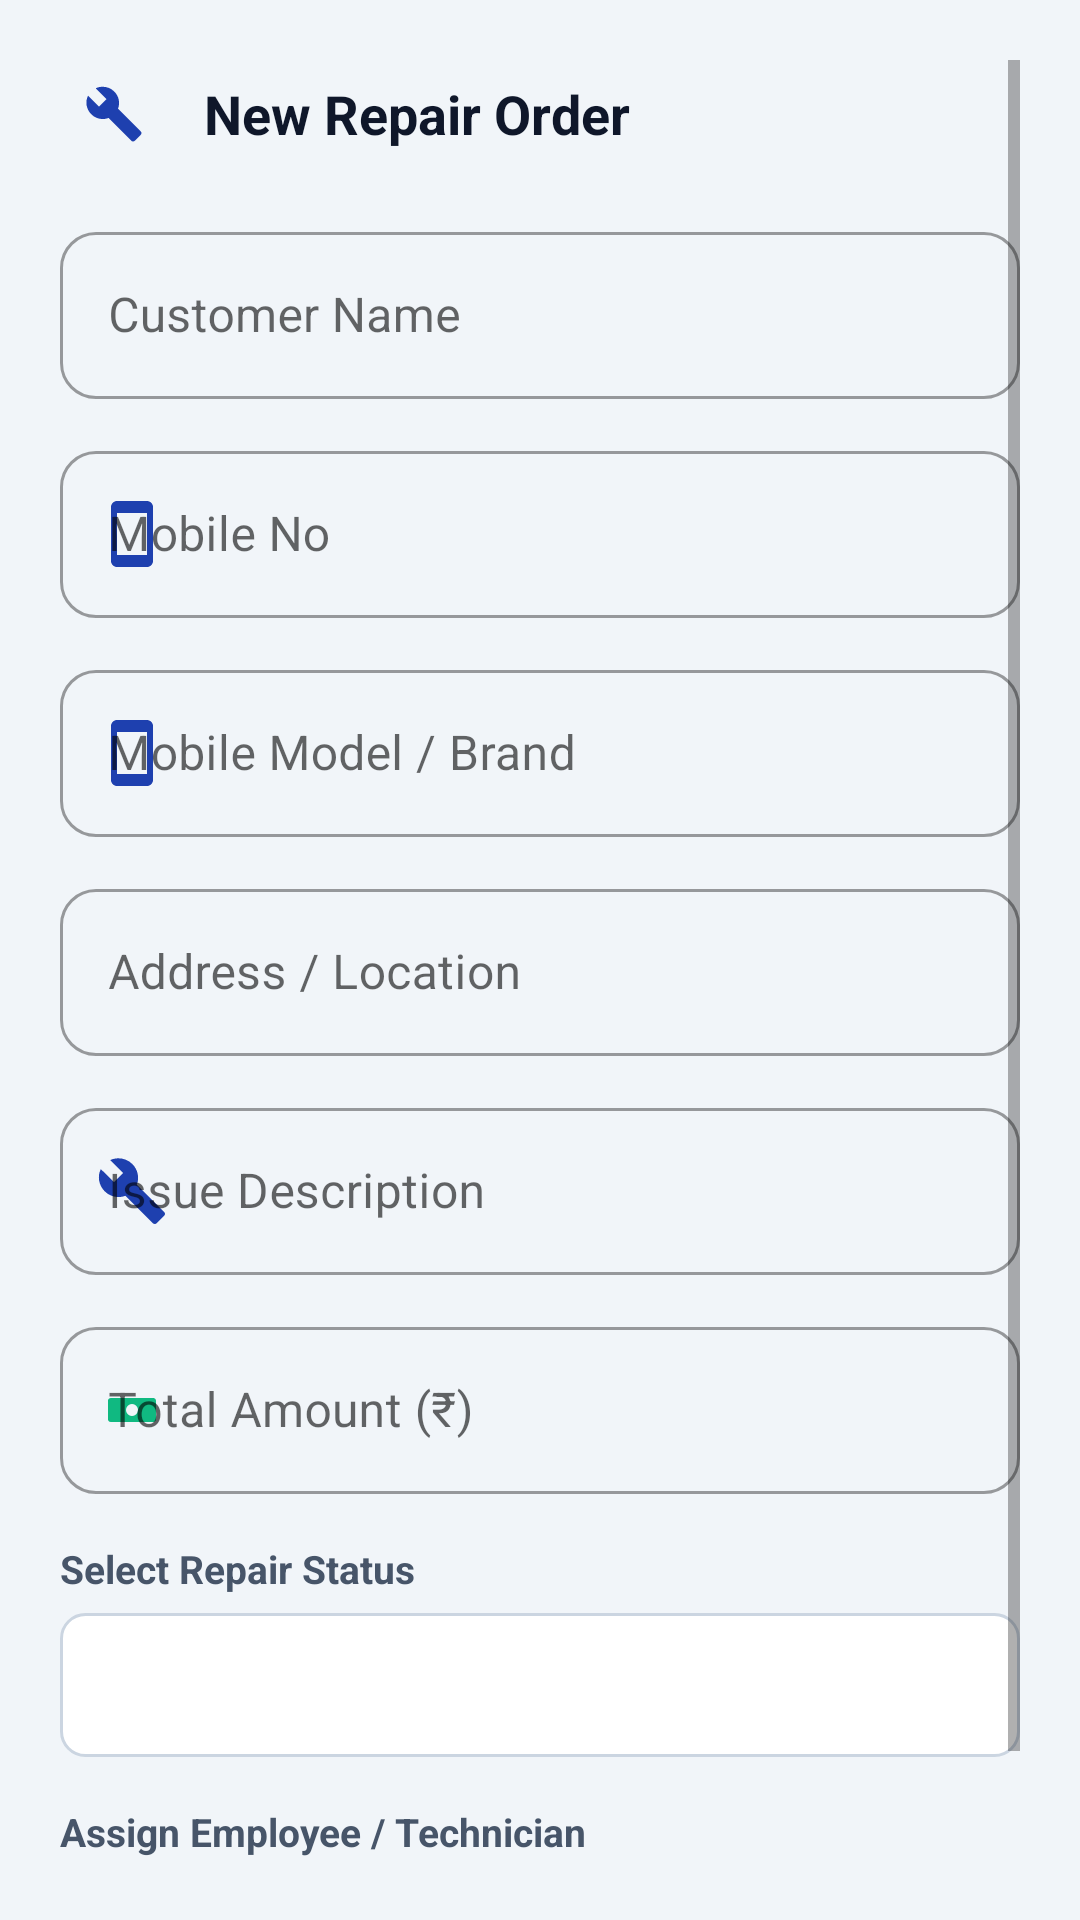

Screen size 1080x1920. Icon name, then its center in pixels as point (x, y):
Repair Header Icon: point (114, 114)
